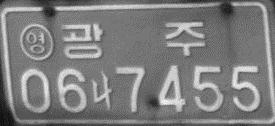0: (19, 68, 51, 115)
4: (158, 64, 185, 112)
5: (192, 64, 223, 113), (230, 65, 261, 113)
6: (56, 67, 87, 113)
7: (114, 65, 146, 113)
광주_D: (60, 21, 205, 59)
나: (89, 72, 113, 110)
영: (19, 22, 54, 61)
